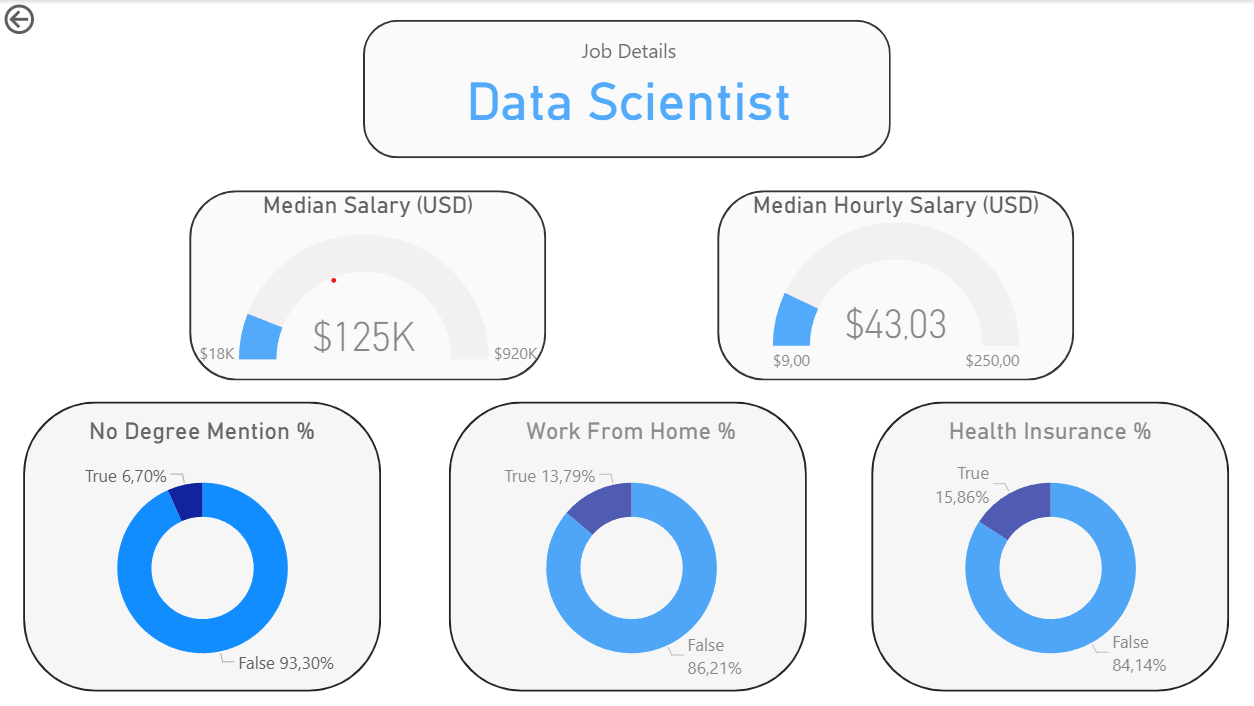

The dashboard page shown, as its layout file describes it:
{"tool":"powerbi","page":{"name":"DRILL THROUGH","canvas":[1280,720],"ordinal":1},"visuals":[{"type":"shape","box":[24,408.6,364.6,295.4],"z":0},{"type":"actionButton","box":[0,0,100,40],"z":1000},{"type":"cardVisual","title":"Job Postings Count","fields":{"Data":["Min(job_postings_flat.job_title_short)"]},"box":[374,20,533.7,122.4],"z":2000},{"type":"shape","box":[370,20,537.7,141.1],"z":3000},{"type":"group","id":"g1","title":"Group 1","box":[730.6,194.3,354,194.3],"z":4000},{"type":"donutChart","title":"Work From Home %","fields":{"Y":["CountNonNull(job_postings_flat.job_work_from_home)"],"Category":["job_postings_flat.job_work_from_home"]},"box":[477.8,424.5,328.7,279.5],"z":5000},{"type":"gauge","title":"Median Salary (USD)","fields":{"Y":["Median(job_postings_flat.salary_year_avg)"],"MinValue":["Min(job_postings_flat.salary_year_avg)"],"MaxValue":["Max(job_postings_flat.salary_year_avg)1"]},"box":[193,194.3,363.5,193.8],"z":6000,"group":"g2"},{"type":"gauge","title":"Median Hourly Salary (USD)","fields":{"Y":["Median(job_postings_flat.salary_hour_avg)"],"MinValue":["Min(job_postings_flat.salary_hour_avg)1"],"MaxValue":["Max(job_postings_flat.salary_hour_avg)2"]},"box":[730.6,194.3,363.5,193.8],"z":6000,"group":"g1"},{"type":"donutChart","title":"Health Insurance %","fields":{"Y":["CountNonNull(job_postings_flat.job_health_insurance)"],"Category":["job_postings_flat.job_health_insurance"]},"box":[905,424.5,328.7,279.5],"z":6000},{"type":"shape","box":[193,194.3,363.5,193.8],"z":6500,"group":"g2"},{"type":"shape","box":[730.6,194.3,363.5,193.8],"z":6500,"group":"g1"},{"type":"donutChart","title":"No Degree Mention %","fields":{"Y":["CountNonNull(job_postings_flat.job_no_degree_mention)"],"Category":["job_postings_flat.job_no_degree_mention"]},"box":[41.3,424.5,328.7,279.5],"z":7000},{"type":"group","id":"g2","title":"Group 1","box":[193,194.3,354,194.3],"z":8000},{"type":"shape","box":[456.5,408.6,364.6,295.4],"z":9000},{"type":"shape","box":[887.7,408.6,364.6,295.4],"z":10000}]}

Visuals, with their boxes in screenshot pixels (x1, y1, x2, y2), scaled from the page's 1280x720 canvas onto the 1254x706 screenshot:
shape: [left=24, top=401, right=381, bottom=690]
actionButton: [left=0, top=0, right=98, bottom=39]
"Job Postings Count" cardVisual: [left=366, top=20, right=889, bottom=140]
shape: [left=362, top=20, right=889, bottom=158]
"Group 1" group: [left=716, top=191, right=1063, bottom=381]
"Work From Home %" donutChart: [left=468, top=416, right=790, bottom=690]
"Median Salary (USD)" gauge: [left=189, top=191, right=545, bottom=381]
"Median Hourly Salary (USD)" gauge: [left=716, top=191, right=1072, bottom=381]
"Health Insurance %" donutChart: [left=887, top=416, right=1209, bottom=690]
shape: [left=189, top=191, right=545, bottom=381]
shape: [left=716, top=191, right=1072, bottom=381]
"No Degree Mention %" donutChart: [left=40, top=416, right=362, bottom=690]
"Group 1" group: [left=189, top=191, right=536, bottom=381]
shape: [left=447, top=401, right=804, bottom=690]
shape: [left=870, top=401, right=1227, bottom=690]
